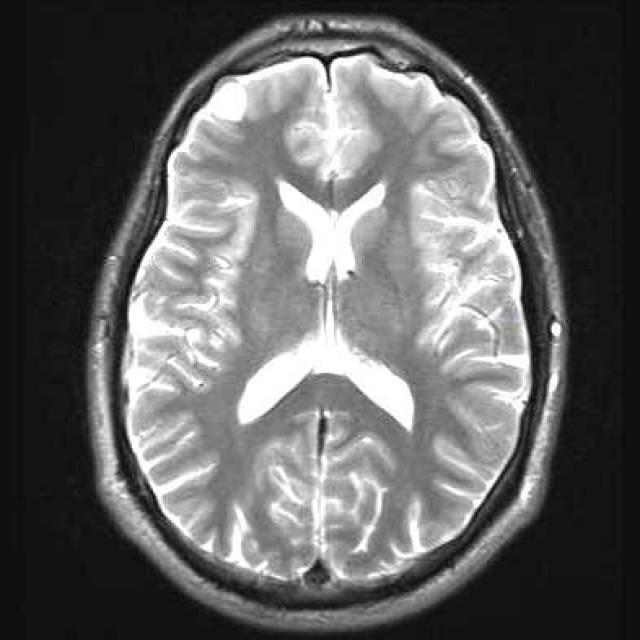notumor: (86, 16, 568, 637)
